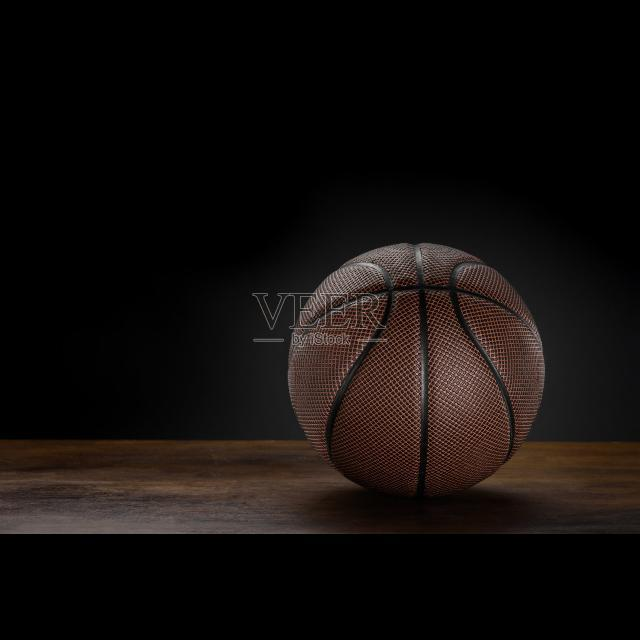basketball: (290, 243, 544, 497)
